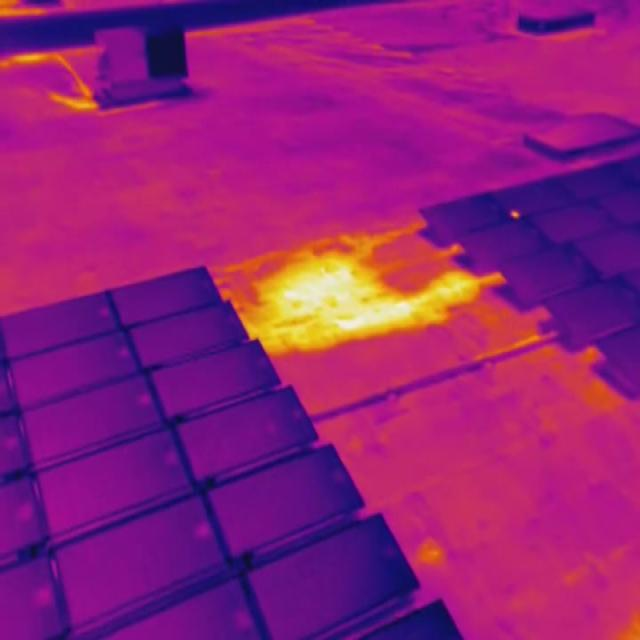Orange-Spots: (511, 208, 520, 220)
